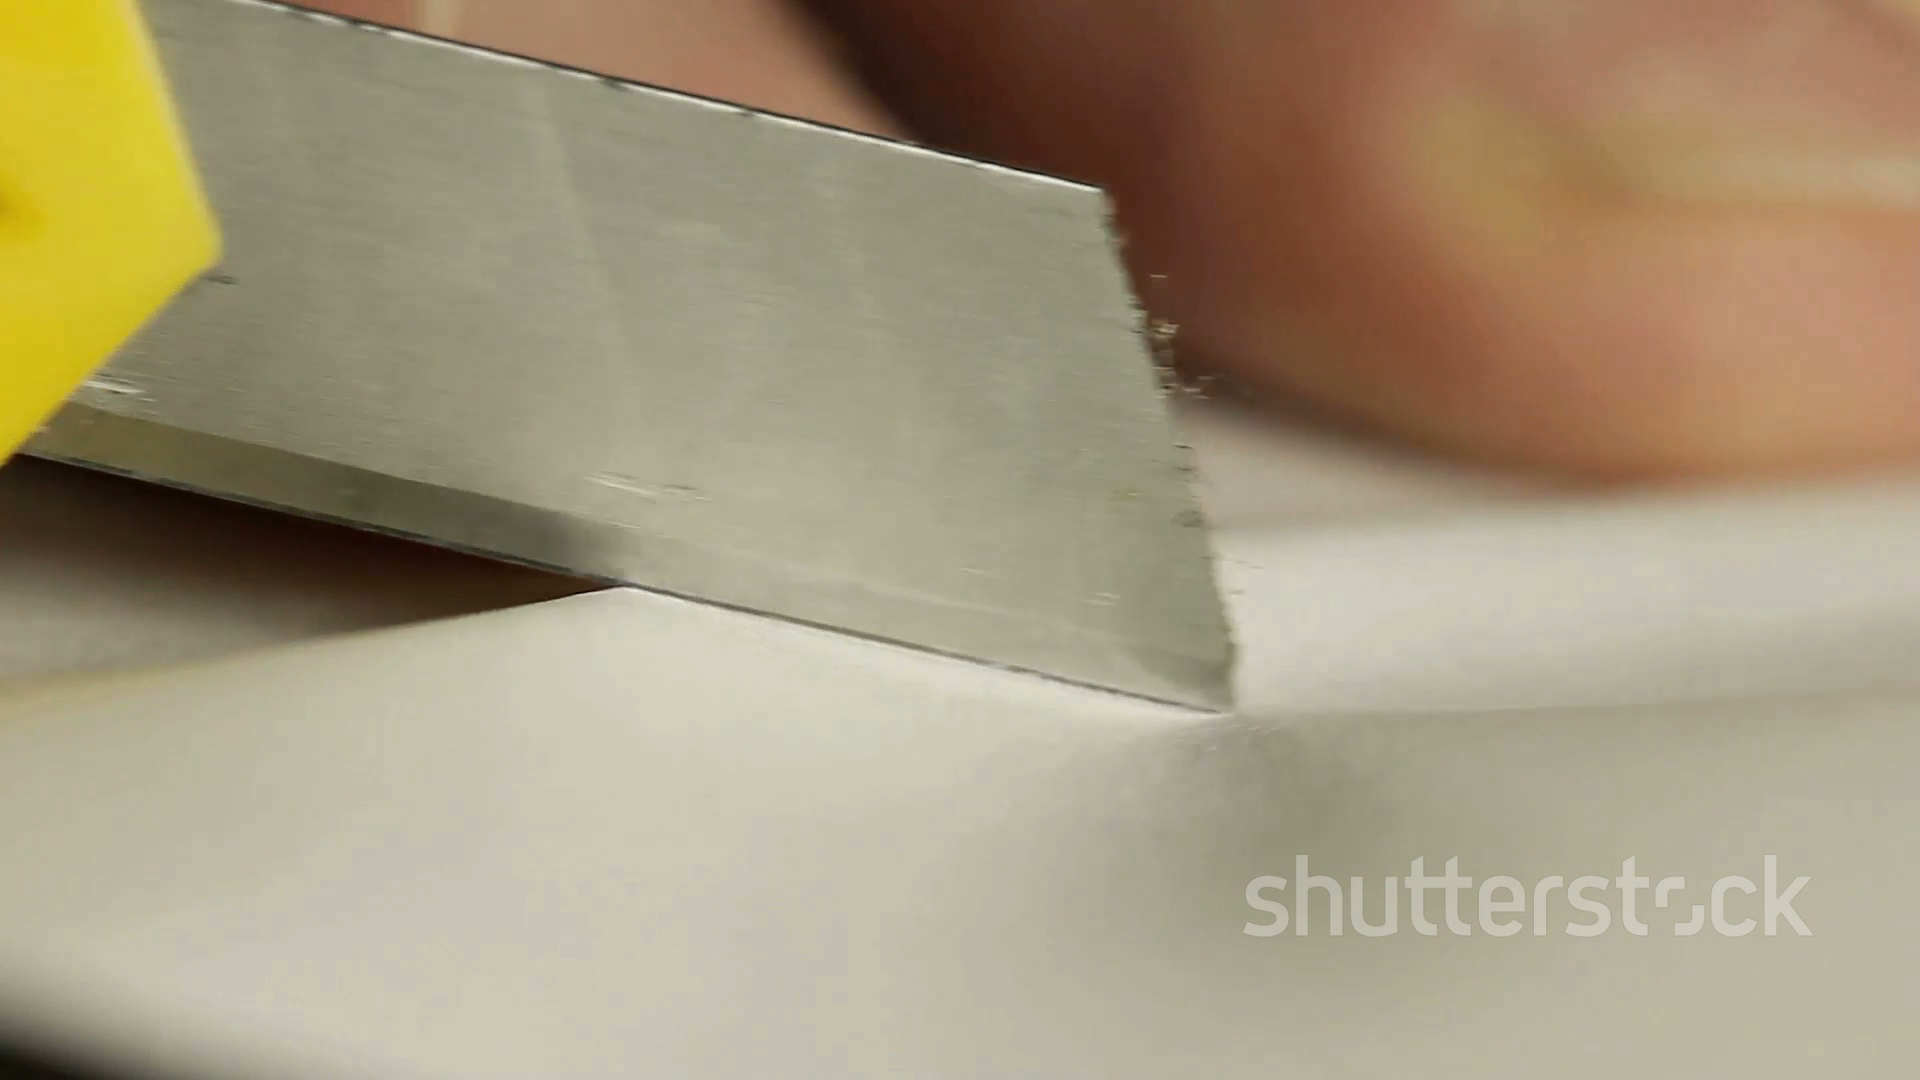cortante: (18, 0, 1236, 715)
